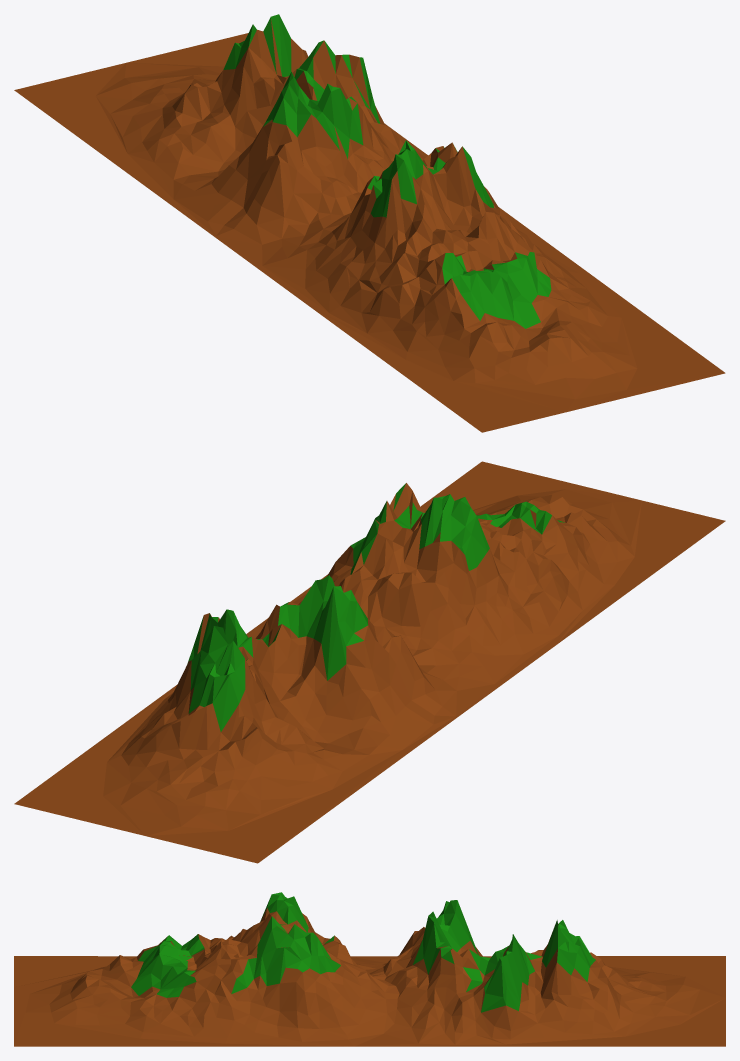
Rendered from mountain 1.fbx.
The picture shows the model from 3 angles, top to bottom: view 1: azimuth 30°, elevation 25°; view 2: azimuth 150°, elevation 25°; view 3: azimuth 270°, elevation 25°; orthographic projection. The views are drawn at different scales.
Visible parts, largest first — view 1: Landscape; view 2: Landscape; view 3: Landscape.
Part boxes in pixels (x1,y1,x2,y2): Landscape: (14,14,725,432); Landscape: (14,461,725,863); Landscape: (14,892,725,1046).
Size of the model in its own units: 70.75 by 36.47 by 235.
